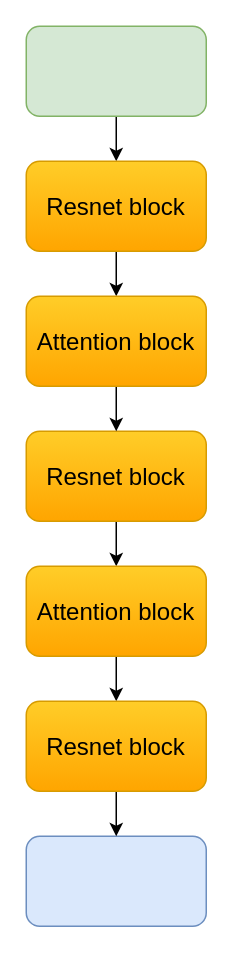
The diagram is 233 pixels wide and 953 high, and some of its shapes have lost their labels. The centre of each missing label's shape, as x and y in pixels:
Input: pixel 115 70
Output: pixel 115 880
